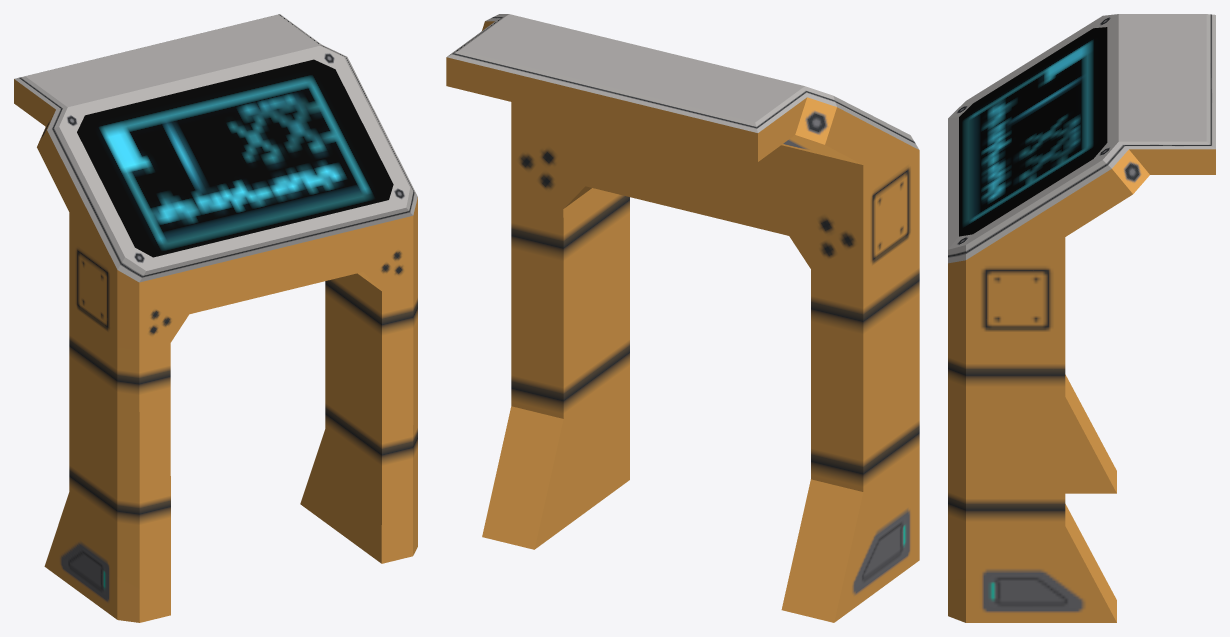
Rendered from SM_Prop_Console_01.fbx.
3 views of the same model, side by side, from view 1: azimuth 30°, elevation 25°; view 2: azimuth 150°, elevation 25°; view 3: azimuth 270°, elevation 25° (orthographic). The views are drawn at different scales.
Visible parts, largest first — view 1: SM_Prop_Console_01; view 2: SM_Prop_Console_01; view 3: SM_Prop_Console_01.
Boxes of the visible parts, bbox=[...] form: SM_Prop_Console_01: bbox=[14, 14, 417, 622]; SM_Prop_Console_01: bbox=[446, 14, 919, 622]; SM_Prop_Console_01: bbox=[948, 14, 1215, 622].
Size of the model in its own units: 71.77 by 103 by 53.49.
